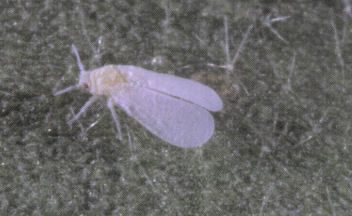whitefly: (50, 41, 225, 151)
